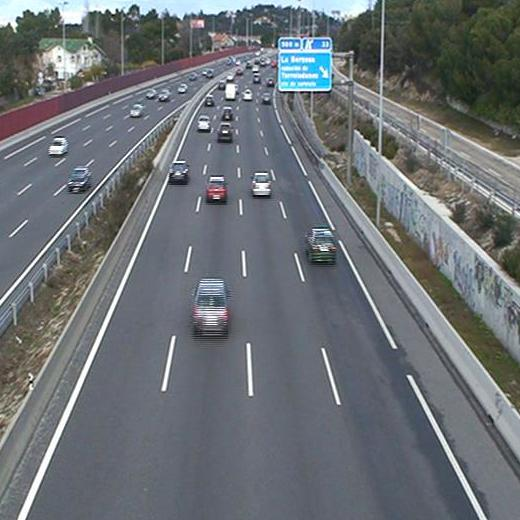car: (194, 280, 228, 335), (307, 227, 334, 263), (207, 176, 228, 203), (167, 160, 189, 185), (250, 172, 272, 196), (217, 121, 232, 142), (197, 116, 211, 133), (221, 106, 233, 121), (203, 93, 214, 108), (243, 89, 254, 102), (261, 92, 271, 105)
van: (225, 83, 237, 100)
